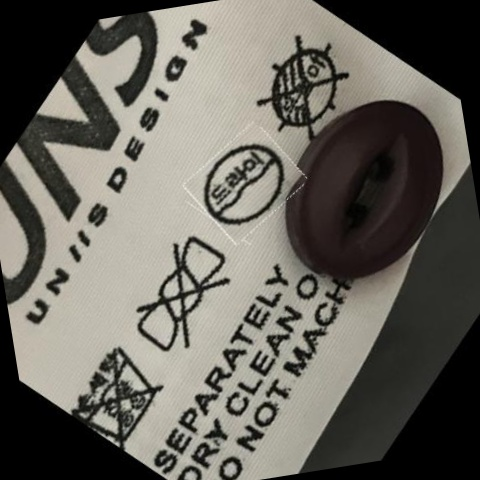DN_dry: (251, 36, 356, 142)
DN_wring: (124, 238, 242, 356)
dry_clean: (198, 136, 293, 233)
hand_wash: (69, 337, 168, 445)
